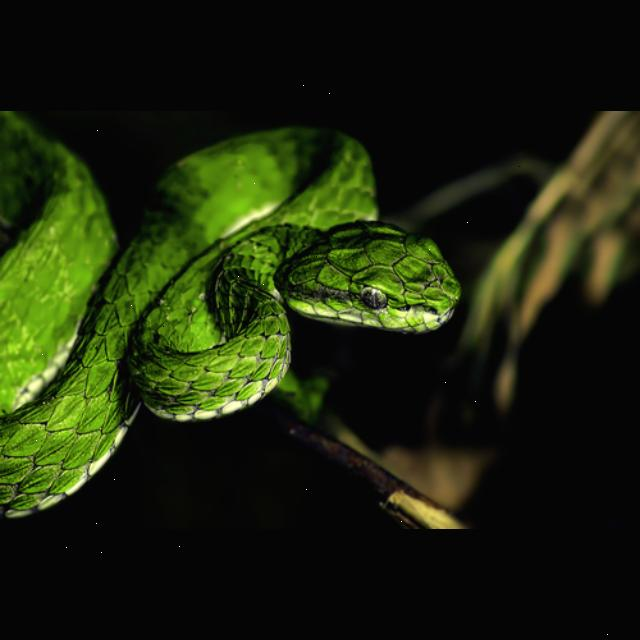snake: (0, 112, 462, 522)
